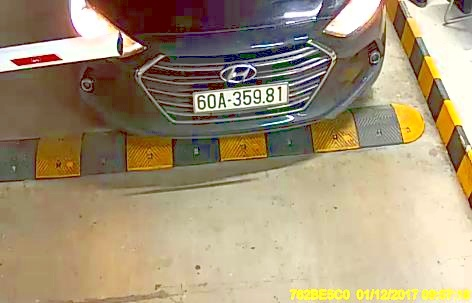plate: (192, 85, 288, 109)
